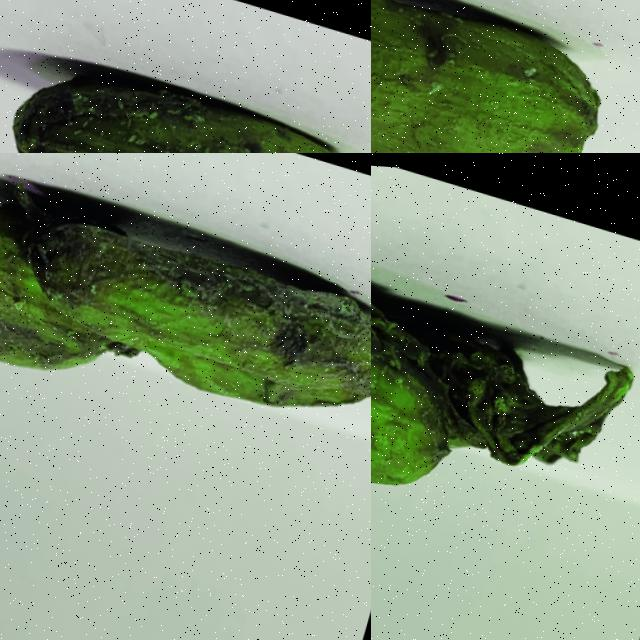Agglomerated_cocoabeans: (0, 153, 370, 521), (371, 153, 639, 579)
Fine_cocoabeans: (0, 0, 370, 152), (371, 0, 639, 152)
